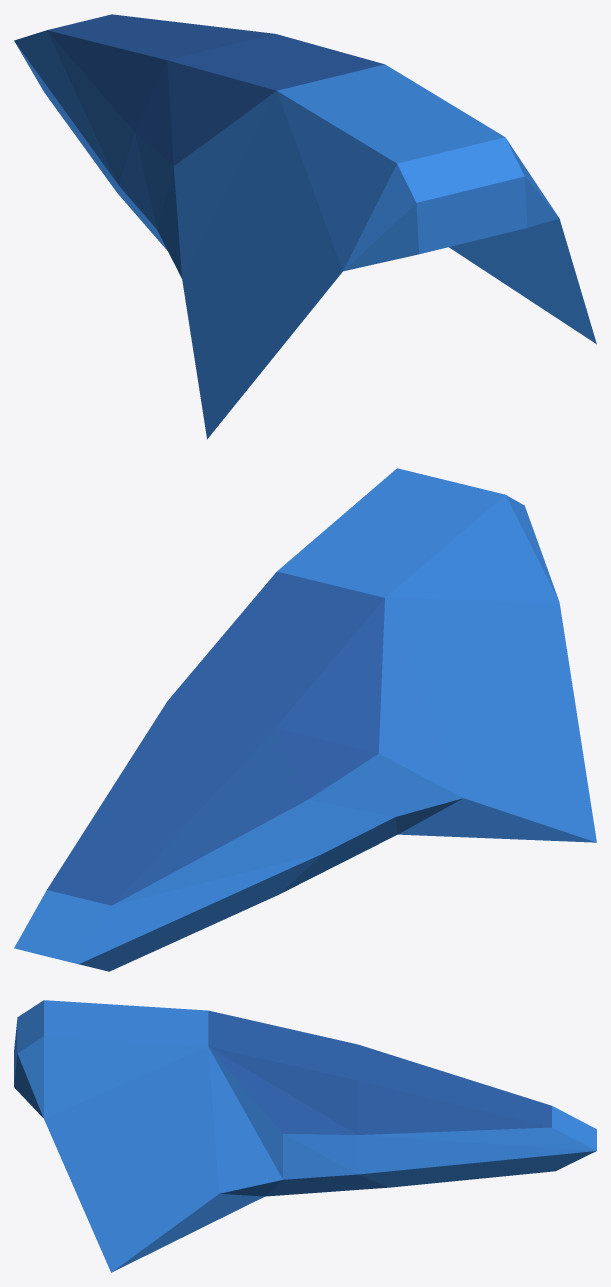
File: Head.FBX
3 renders of one model, top to bottom at view 1: azimuth 30°, elevation 25°; view 2: azimuth 150°, elevation 25°; view 3: azimuth 270°, elevation 25°, orthographic. The views are drawn at different scales.
Visible parts, largest first — view 1: VIFS002, VIFS001; view 2: VIFS002, VIFS001; view 3: VIFS002, VIFS001.
Boxes of the visible parts, x1,y1,x2,y2 form: VIFS002: [14, 30, 596, 439]; VIFS001: [47, 14, 384, 165]; VIFS002: [14, 468, 596, 971]; VIFS001: [47, 571, 384, 905]; VIFS002: [14, 1000, 596, 1272]; VIFS001: [208, 1010, 551, 1134].
Size of the model in its own units: 4.32 by 2.94 by 8.19.
